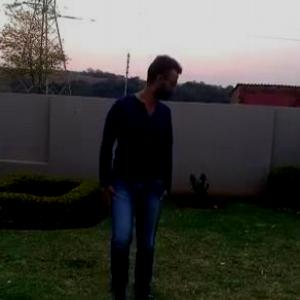follow: (96, 44, 180, 289)
